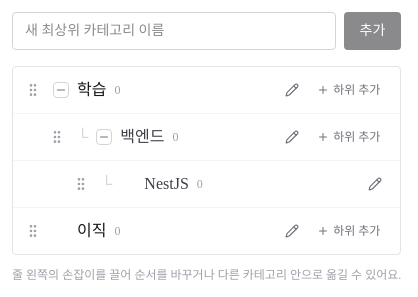
Test: CategoryManager: 이름 수정 › 연필 버튼을 누르면 그 자리에서 현재 이름이 채워진 입력창이 열린다
Click the button named "이직 이름 수정": (292, 231) [279, 218, 305, 244]
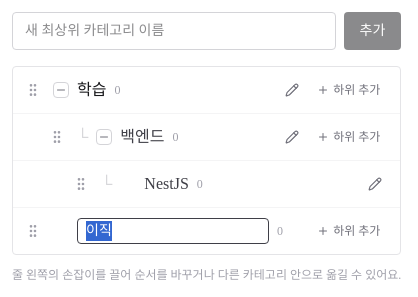
Expected: the field named "이직 새 이름" holds "이직", [77, 218, 269, 244]
